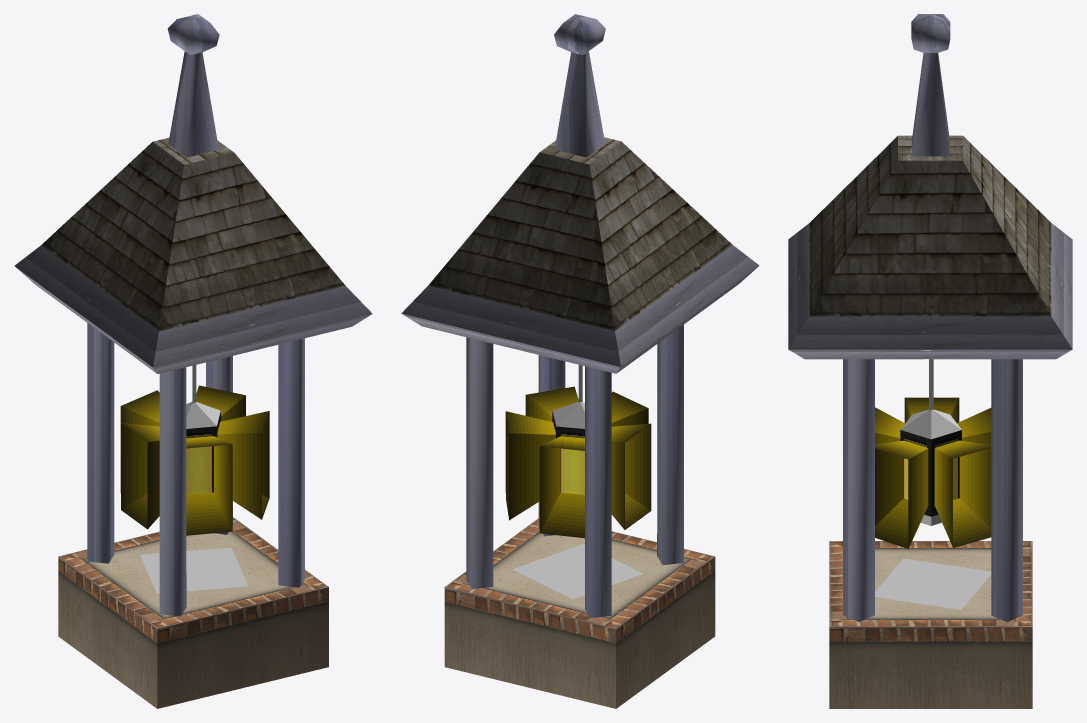
File: Tower.fbx
3 views of the same model, side by side, from view 1: azimuth 30°, elevation 25°; view 2: azimuth 150°, elevation 25°; view 3: azimuth 270°, elevation 25° (orthographic). The views are drawn at different scales.
Parts seen in each view (by area): view 1: A01_Tower.001; view 2: A01_Tower.001; view 3: A01_Tower.001.
Part boxes in pixels (x1,y1,x2,y2): A01_Tower.001: (14,14,372,708); A01_Tower.001: (401,14,759,708); A01_Tower.001: (788,14,1072,708).
Size of the model in its own units: 1778 by 1627 by 4490.
